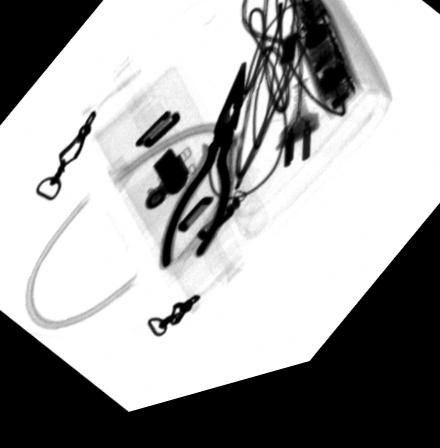Pliers: (156, 73, 246, 277)
